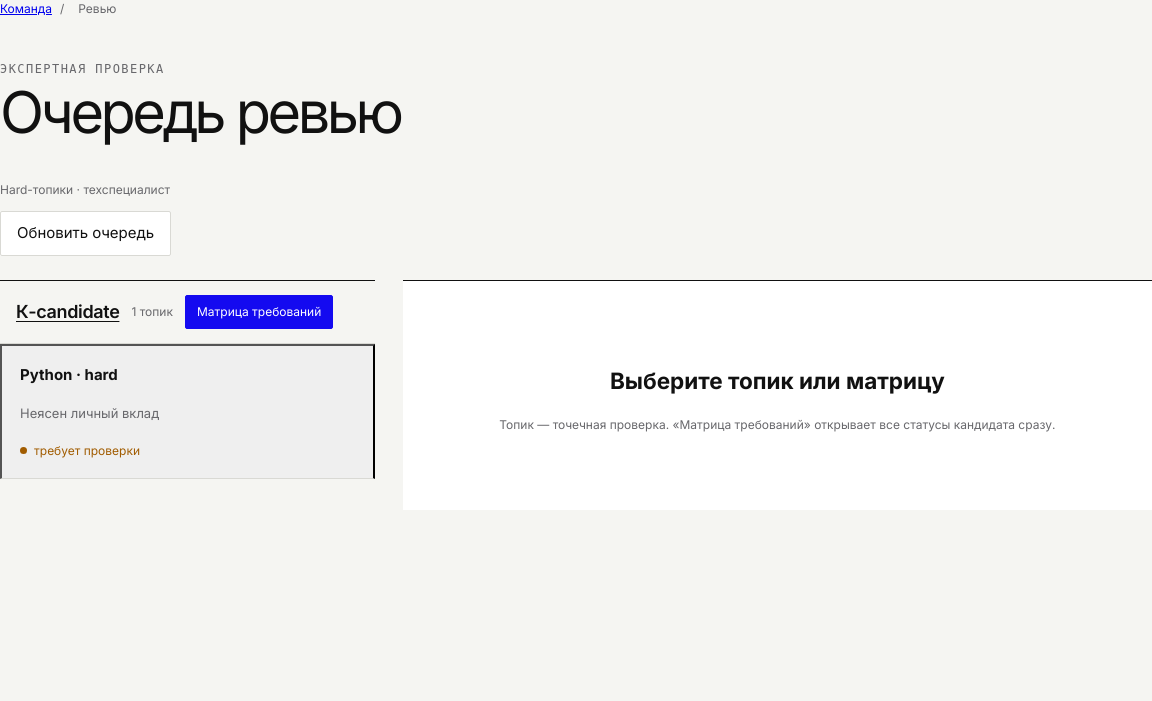
Test: opens matrix from topic detail
The width and height of the screenshot is (1152, 701).
Click the button with aria-label "К-candidate: Python · hard".
click(46, 374)  # box left=0, top=344, right=375, bottom=479
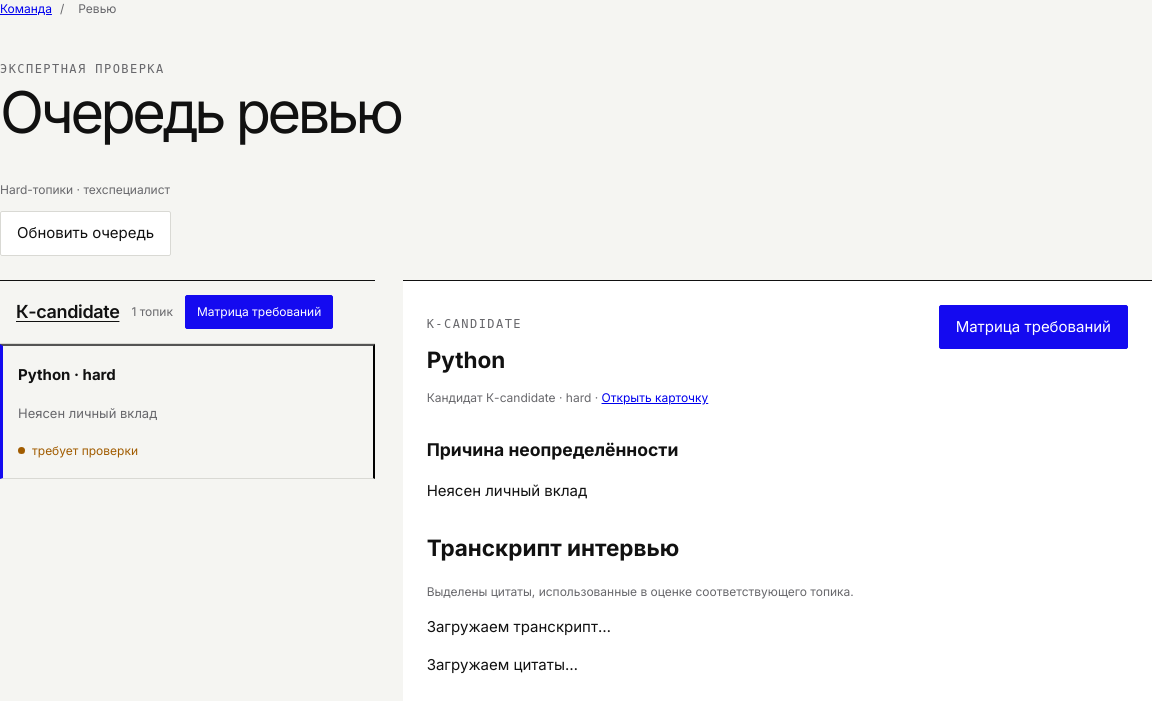
Click the 2nd button "Матрица требований".
click(1033, 327)  # box left=939, top=305, right=1128, bottom=349
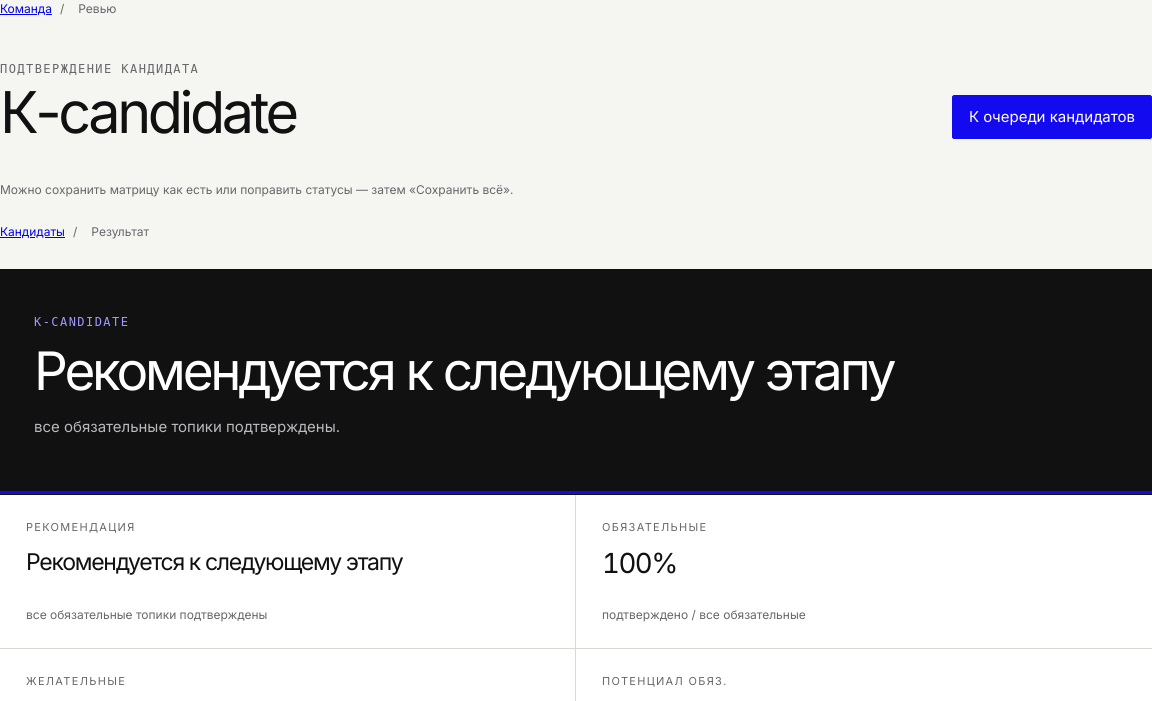
expect the text "Можно сохранить матрицу как есть или поправить статусы — затем «Сохранить всё»." is shown: met, box left=0, top=182, right=514, bottom=197
